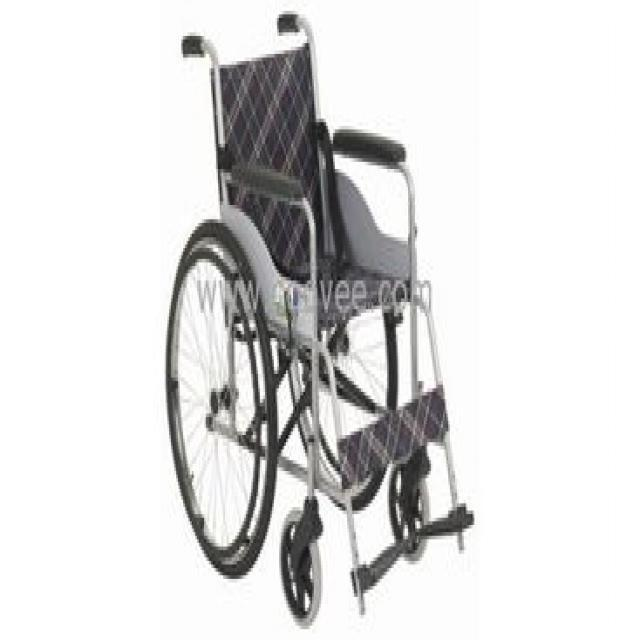wheelchair: (143, 0, 479, 637)
